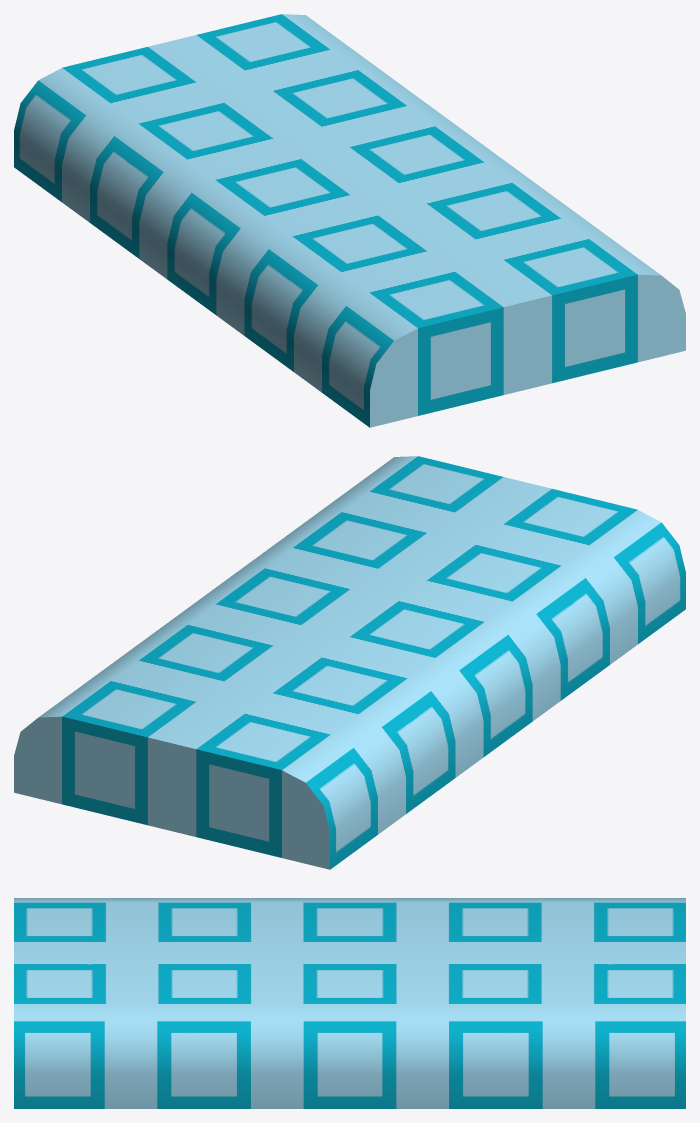
Rendered from testPlatform.fbx.
The picture shows the model from 3 angles, top to bottom: view 1: azimuth 30°, elevation 25°; view 2: azimuth 150°, elevation 25°; view 3: azimuth 270°, elevation 25°; orthographic projection. The views are drawn at different scales.
Parts seen in each view (by area): view 1: Cube; view 2: Cube; view 3: Cube.
Part boxes in pixels (<box>): Cube: <box>14,14,685,427</box>; Cube: <box>14,456,685,869</box>; Cube: <box>14,898,685,1108</box>.
Bounding box in the file's own units: 4.73 × 1.26 × 9.23.
Materials: 1 (1 with a texture image).
